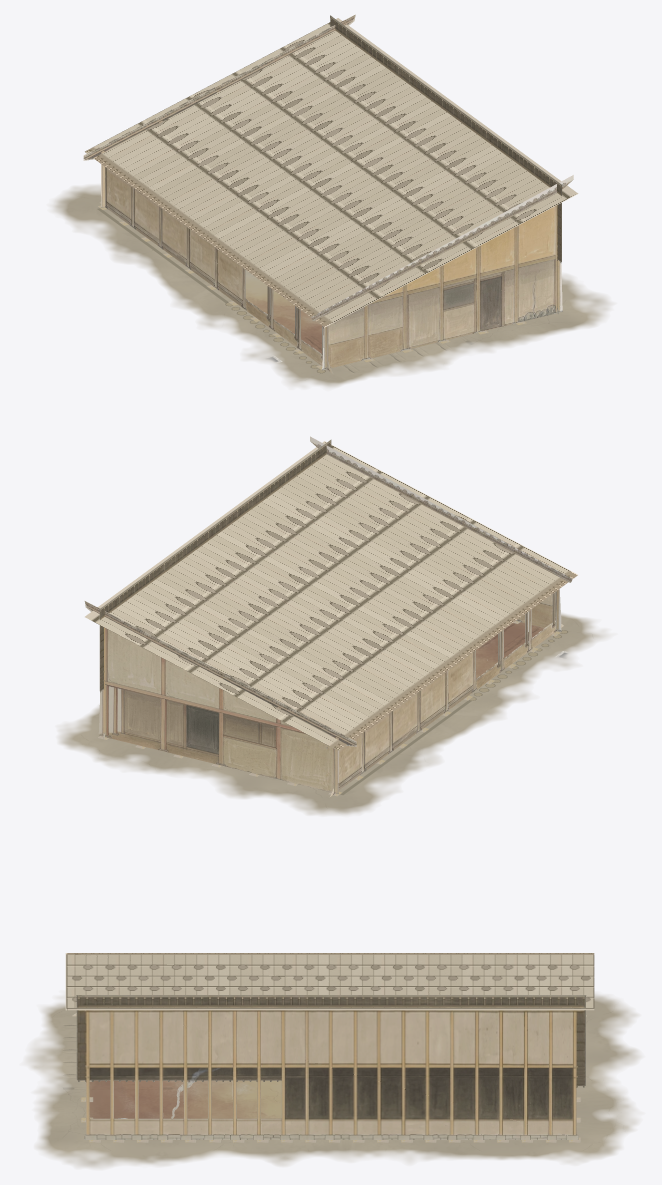
File: kakiwari-center-1-50.glb
3 renders of one model, top to bottom at view 1: azimuth 30°, elevation 25°; view 2: azimuth 150°, elevation 25°; view 3: azimuth 270°, elevation 25°, orthographic. The views are drawn at different scales.
Visible parts, largest first — view 1: 屋根（西面の屋根帯）, 南面, 地面, 西面（壁）, 東面, 北面; view 2: 屋根（西面の屋根帯）, 北面, 地面, 西面（壁）, 東面, 南面; view 3: 東面, 地面, 屋根（西面の屋根帯）.
Part boxes in pixels (x1=…): 屋根（西面の屋根帯）: x1=85, y1=18, x2=578, y2=327; 南面: x1=311, y1=175, x2=573, y2=370; 地面: x1=51, y1=185, x2=612, y2=387; 西面（壁）: x1=99, y1=167, x2=335, y2=373; 東面: x1=330, y1=15, x2=561, y2=313; 北面: x1=83, y1=14, x2=355, y2=207; 屋根（西面の屋根帯）: x1=85, y1=441, x2=577, y2=750; 北面: x1=84, y1=601, x2=356, y2=793; 地面: x1=58, y1=613, x2=609, y2=815; 西面（壁）: x1=326, y1=591, x2=563, y2=796; 東面: x1=99, y1=439, x2=331, y2=737; 南面: x1=310, y1=436, x2=572, y2=631; 東面: x1=76, y1=995, x2=586, y2=1139; 地面: x1=26, y1=993, x2=640, y2=1168; 屋根（西面の屋根帯）: x1=65, y1=953, x2=594, y2=1010.
Size of the model in its own units: 0.3546 by 0.135 by 0.5122.
Materials: 11 (11 with a texture image).
